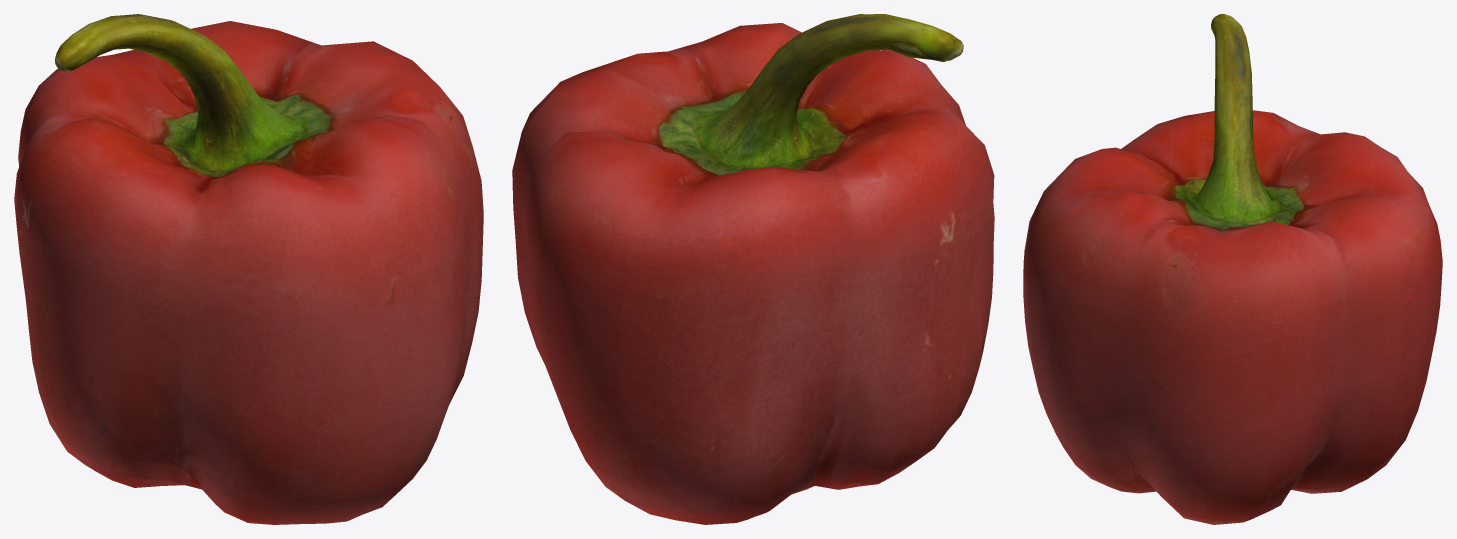
Rendered from redbellpepper.glb.
3 views of the same model, side by side, from view 1: azimuth 30°, elevation 25°; view 2: azimuth 150°, elevation 25°; view 3: azimuth 270°, elevation 25° (orthographic). The views are drawn at different scales.
Visible parts, largest first — view 1: Red Bell Pepper; view 2: Red Bell Pepper; view 3: Red Bell Pepper.
Part boxes in pixels (x1,y1,x2,y2): Red Bell Pepper: (14, 14, 483, 524); Red Bell Pepper: (512, 14, 994, 524); Red Bell Pepper: (1023, 14, 1442, 524).
Bounding box in the file's own units: 2.24 × 2.46 × 2.34.
Materials: 1 (1 with a texture image).
